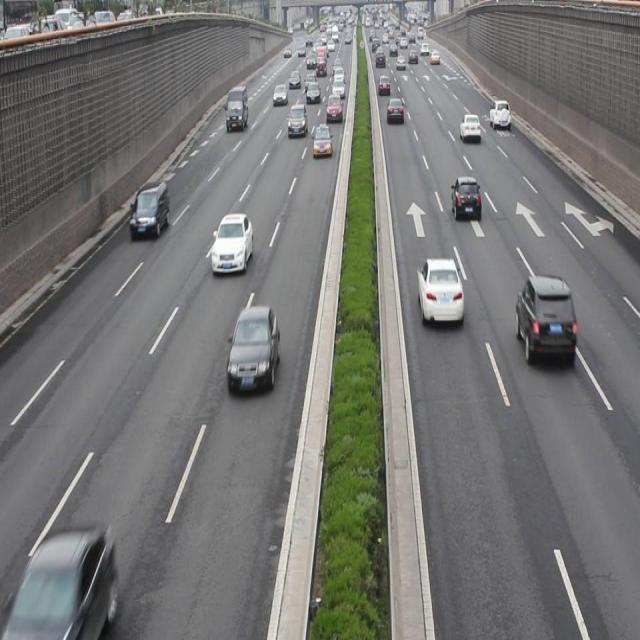car: (10, 524, 117, 640), (515, 272, 577, 368), (226, 302, 280, 392), (416, 255, 464, 325), (210, 212, 253, 274), (129, 179, 170, 237), (449, 176, 482, 221), (487, 98, 510, 130), (312, 125, 332, 157), (459, 112, 480, 140), (386, 96, 404, 124)
truck: (286, 102, 306, 137)
